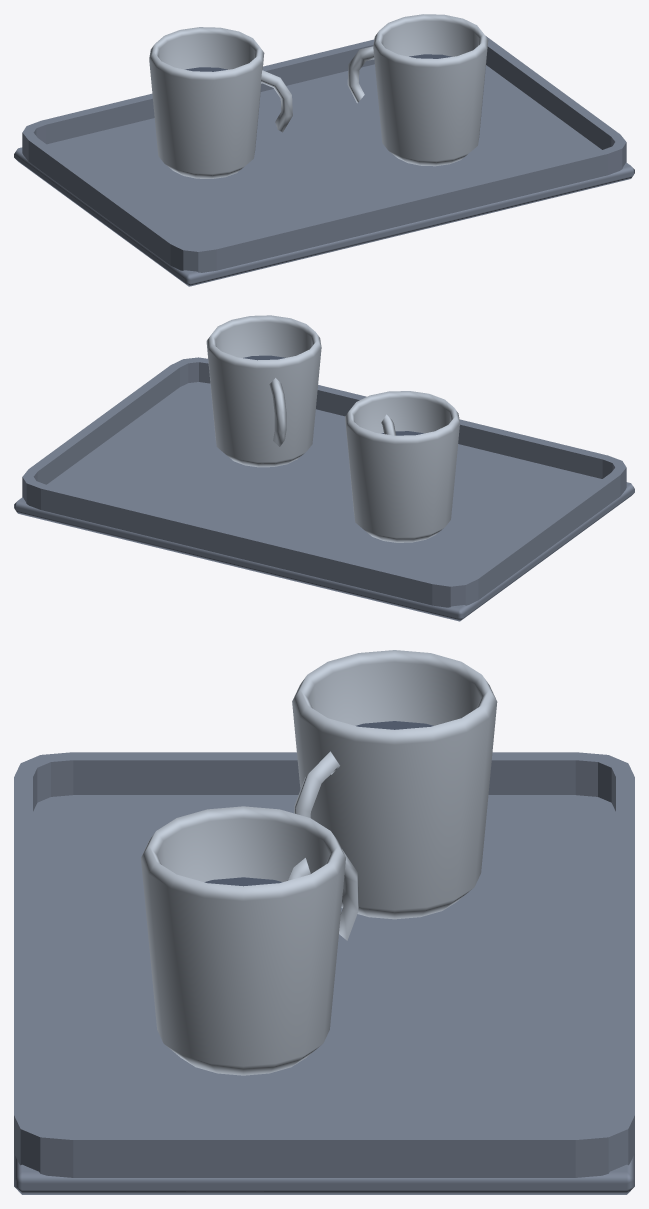
The model's file is decor-tea-tray-lite.glb.
The picture shows the model from 3 angles, top to bottom: view 1: azimuth 30°, elevation 25°; view 2: azimuth 150°, elevation 25°; view 3: azimuth 270°, elevation 25°; orthographic projection. The views are drawn at different scales.
Visible parts, largest first — view 1: decor-tea-tray; view 2: decor-tea-tray; view 3: decor-tea-tray.
Boxes of the visible parts, <box> form: decor-tea-tray: <box>14,14,634,286</box>; decor-tea-tray: <box>14,315,634,621</box>; decor-tea-tray: <box>14,650,634,1194</box>.
Size of the model in its own units: 0.34 by 0.094 by 0.23.
